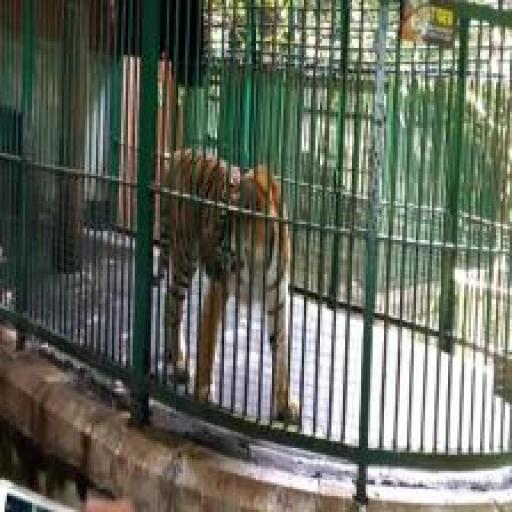Tiger: (151, 132, 310, 460)
